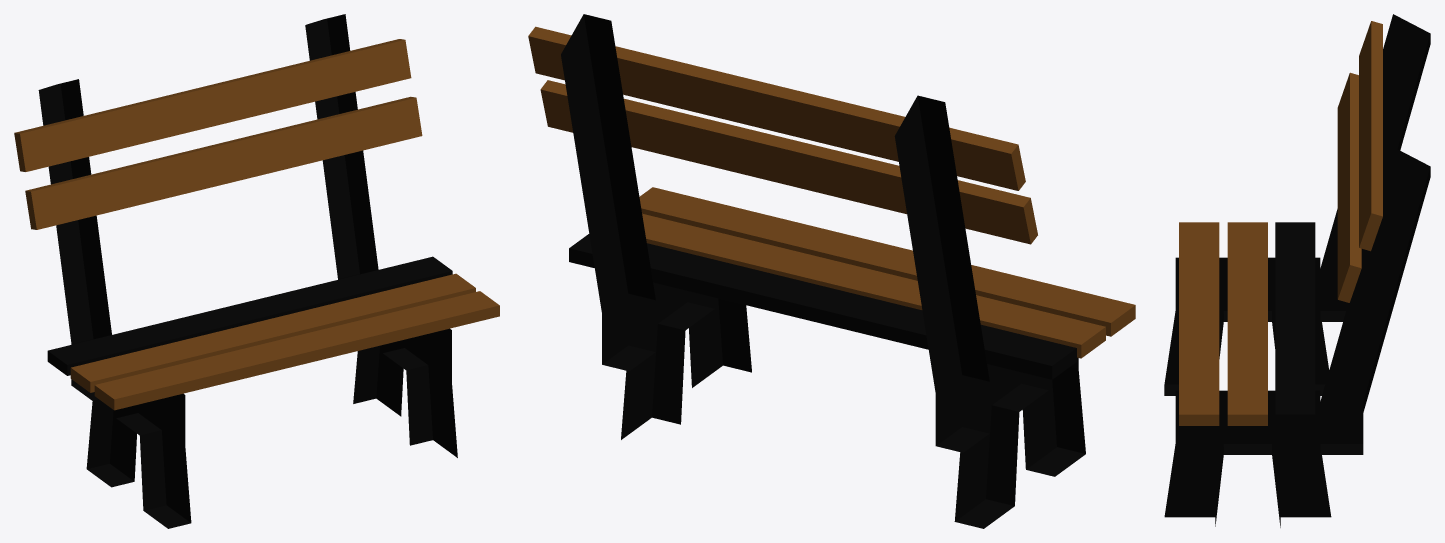
The model's file is Bancp.fbx.
3 views of the same model, side by side, from view 1: azimuth 30°, elevation 25°; view 2: azimuth 150°, elevation 25°; view 3: azimuth 270°, elevation 25° (orthographic). The views are drawn at different scales.
Visible parts, largest first — view 1: Cube; view 2: Cube; view 3: Cube.
Boxes of the visible parts, box(x1,y1,x2,y2) form: Cube: box(14, 14, 499, 528); Cube: box(528, 14, 1135, 528); Cube: box(1164, 14, 1430, 527).
Size of the model in its own units: 220 by 198 by 129.
